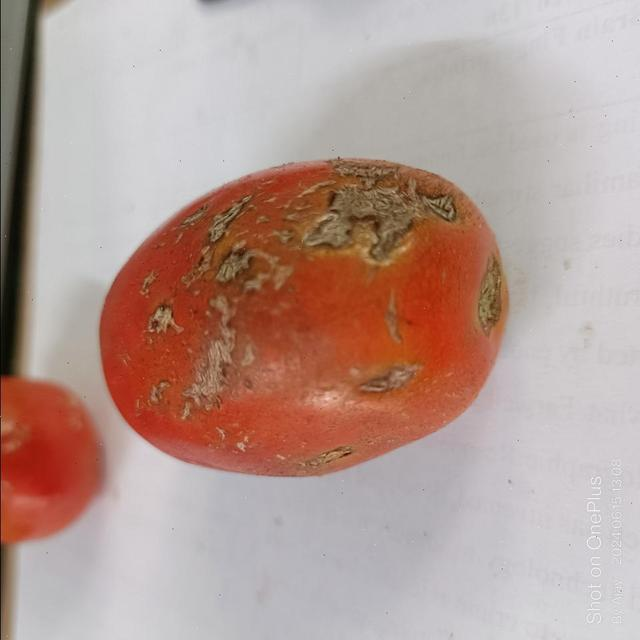Bacterial Spot Fruit: (24, 22, 254, 250)
